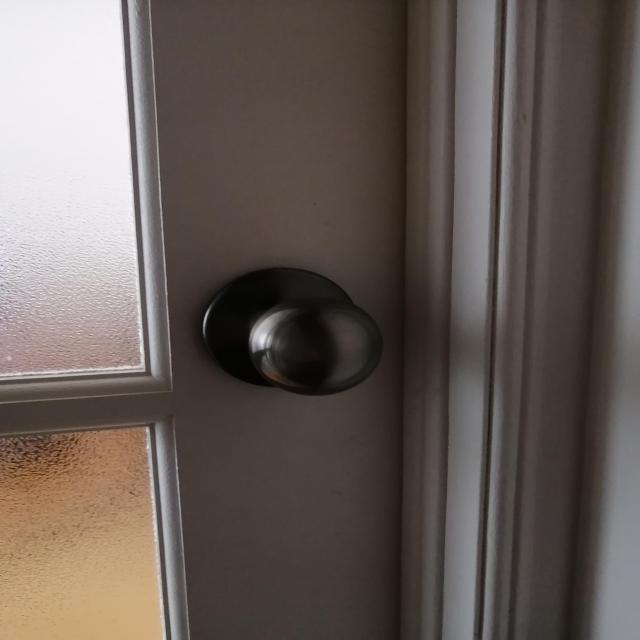door-knob: (203, 268, 383, 395)
